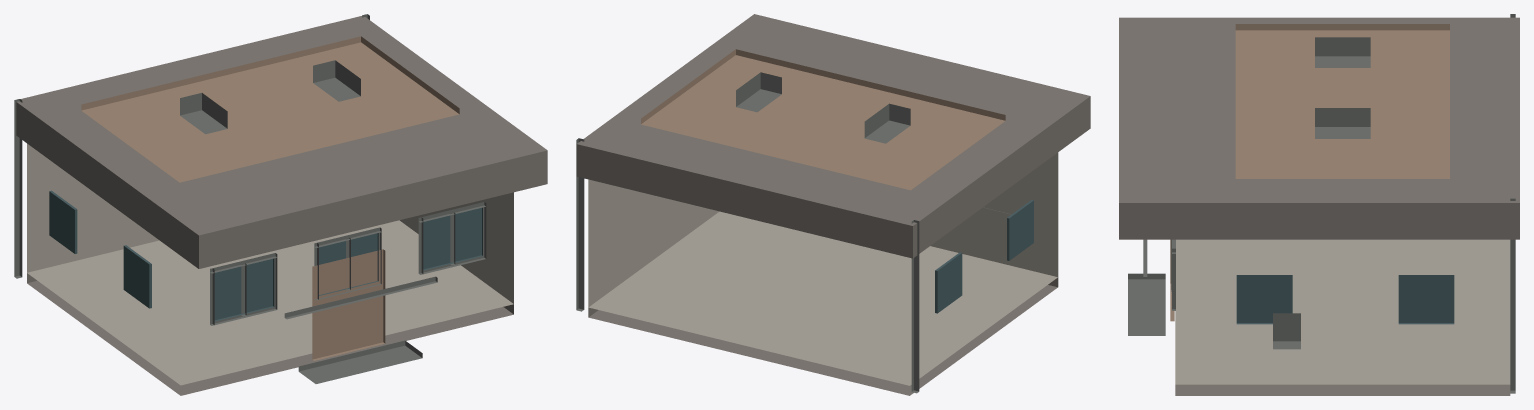
The model's file is duplex_detail.glb.
3 views of the same model, side by side, from view 1: azimuth 30°, elevation 25°; view 2: azimuth 150°, elevation 25°; view 3: azimuth 270°, elevation 25° (orthographic). The views are drawn at different scales.
Size of the model in its own units: 16.65 by 9.05 by 14.37.
